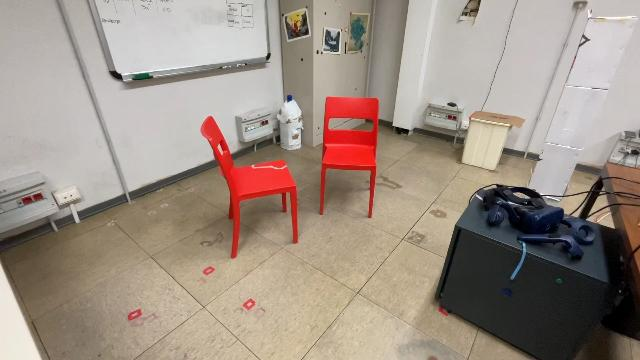Chair: (199, 113, 299, 260), (318, 94, 382, 220)
